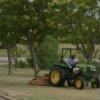Tractor: (43, 41, 100, 95)
